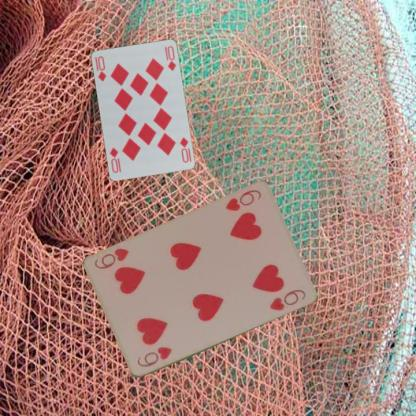10d: (92, 53, 107, 83), (177, 134, 189, 164)
6h: (222, 187, 263, 213), (134, 344, 173, 369)
